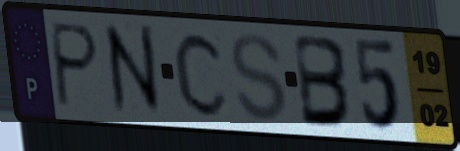5: (352, 37, 408, 136)
B: (292, 31, 356, 131)
C: (171, 28, 232, 120)
N: (100, 21, 167, 118)
P: (49, 19, 102, 111)
S: (228, 30, 290, 126)
